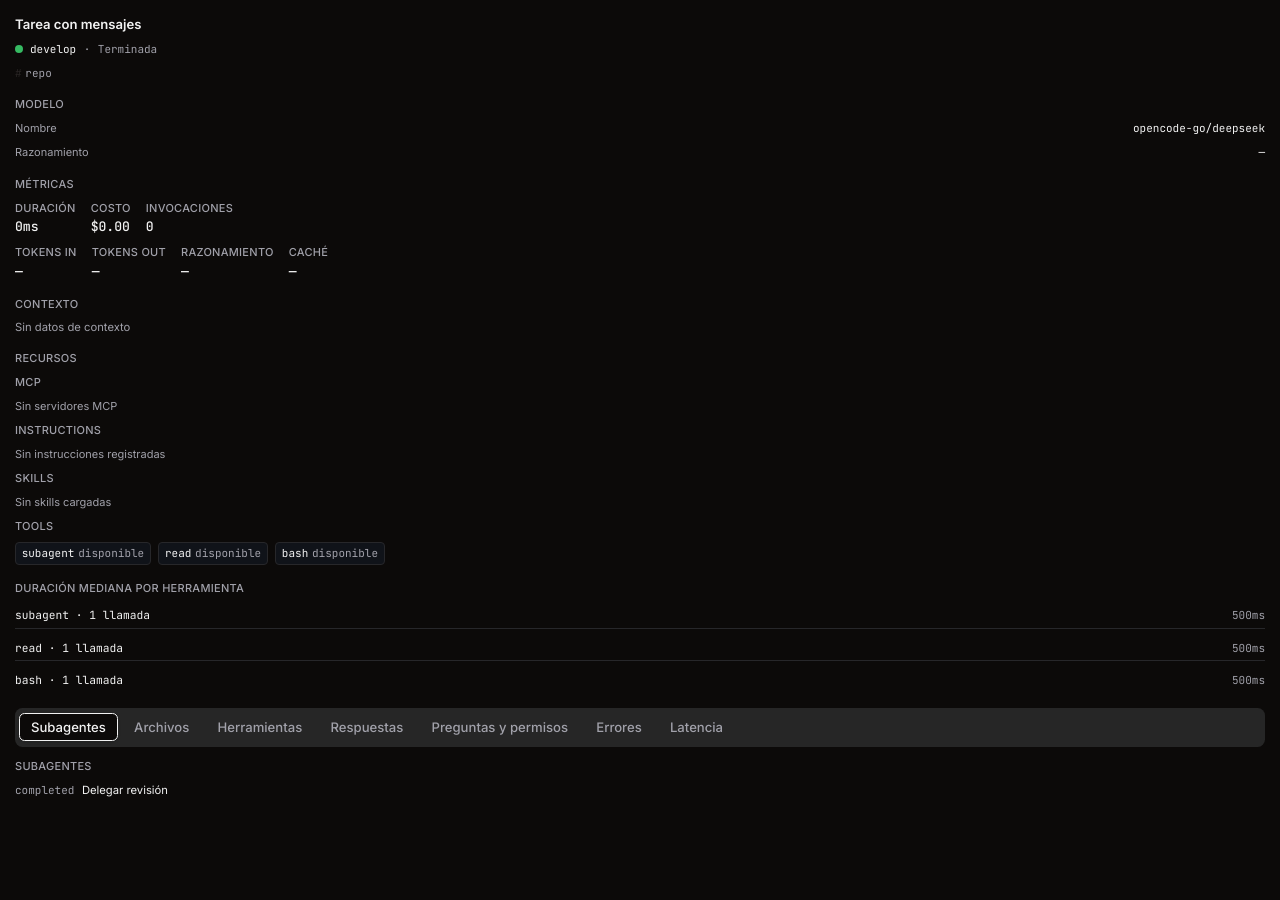
Scenario: InspectorPanel — estados de mensajes en las cuatro secciones (FR-008/SC-005) › con mensajes sembrados muestra los listados reales de las cuatro
Click the tab "Subagentes". click: [68, 727]
box: [19, 713, 118, 741]
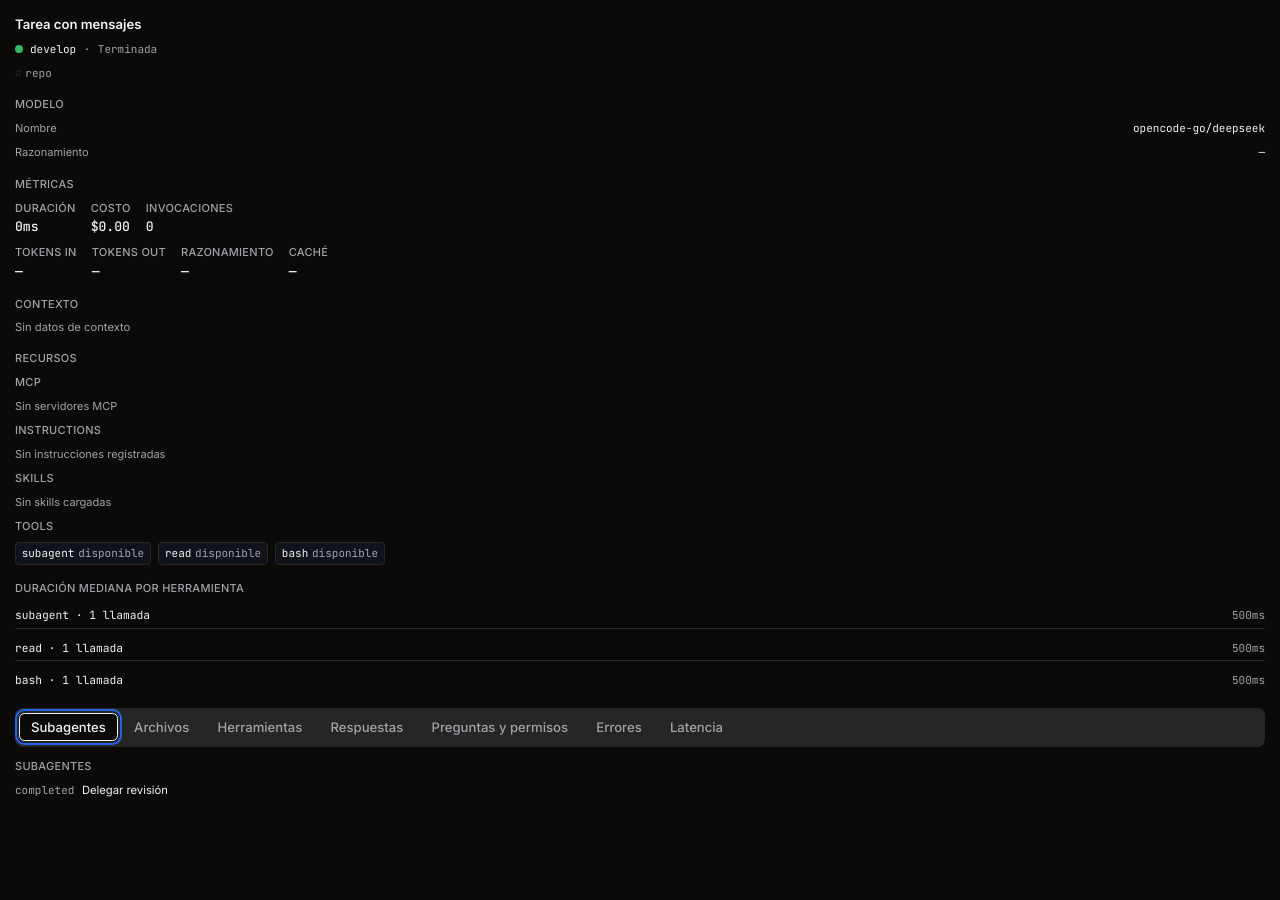
Expected: the text "Delegar revisión" is shown, [82, 782, 168, 798]
Click the tab "Herramientas". click: [260, 727]
box: [205, 713, 314, 741]
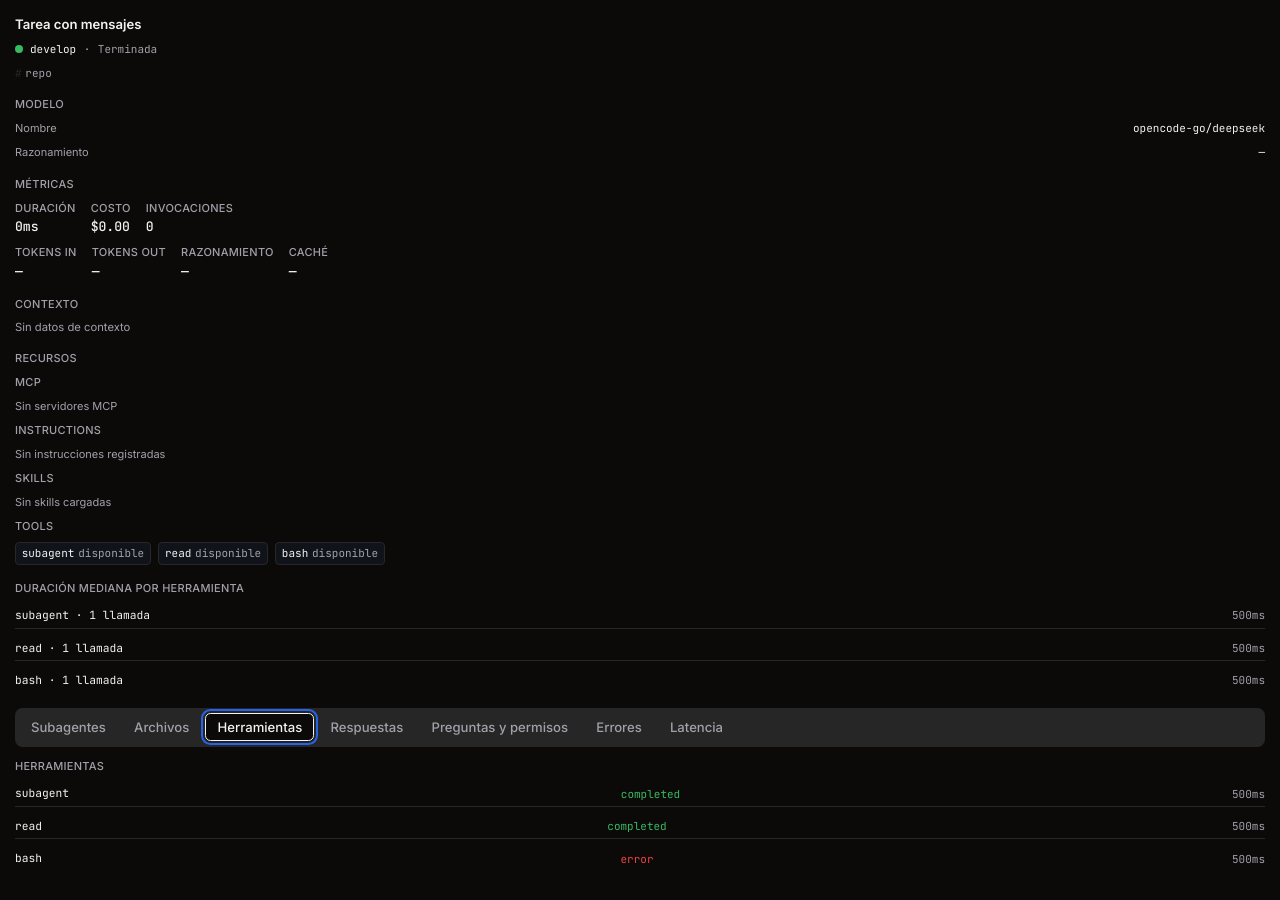
Result: the text "read" is shown at [15, 819, 42, 834]
Click the tab "Respuestas". click: [367, 727]
box: [318, 713, 416, 741]
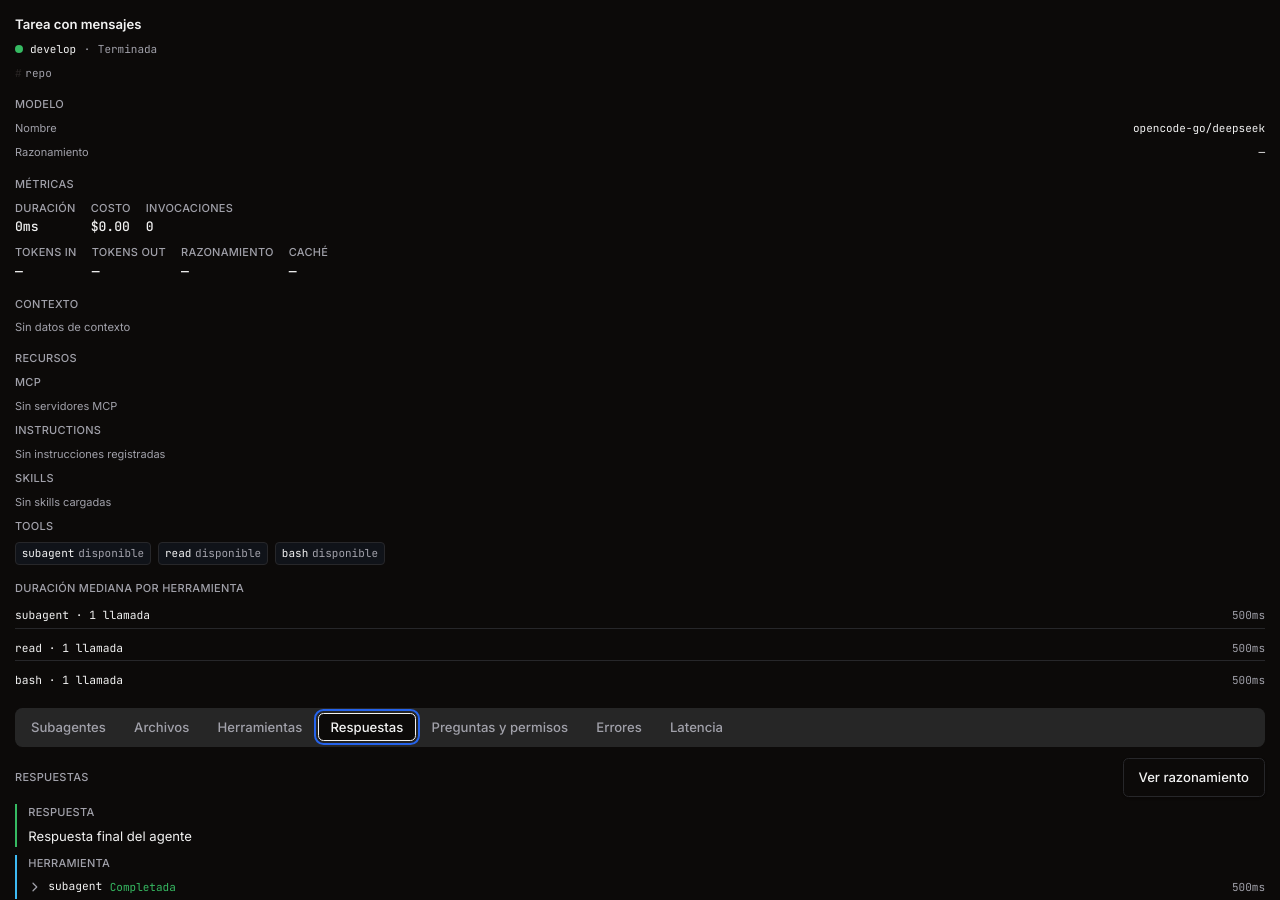
Result: the text "Respuesta final del agente" is shown at [28, 828, 192, 844]
Click the tab "Errores". click: [619, 727]
box: [584, 713, 654, 741]
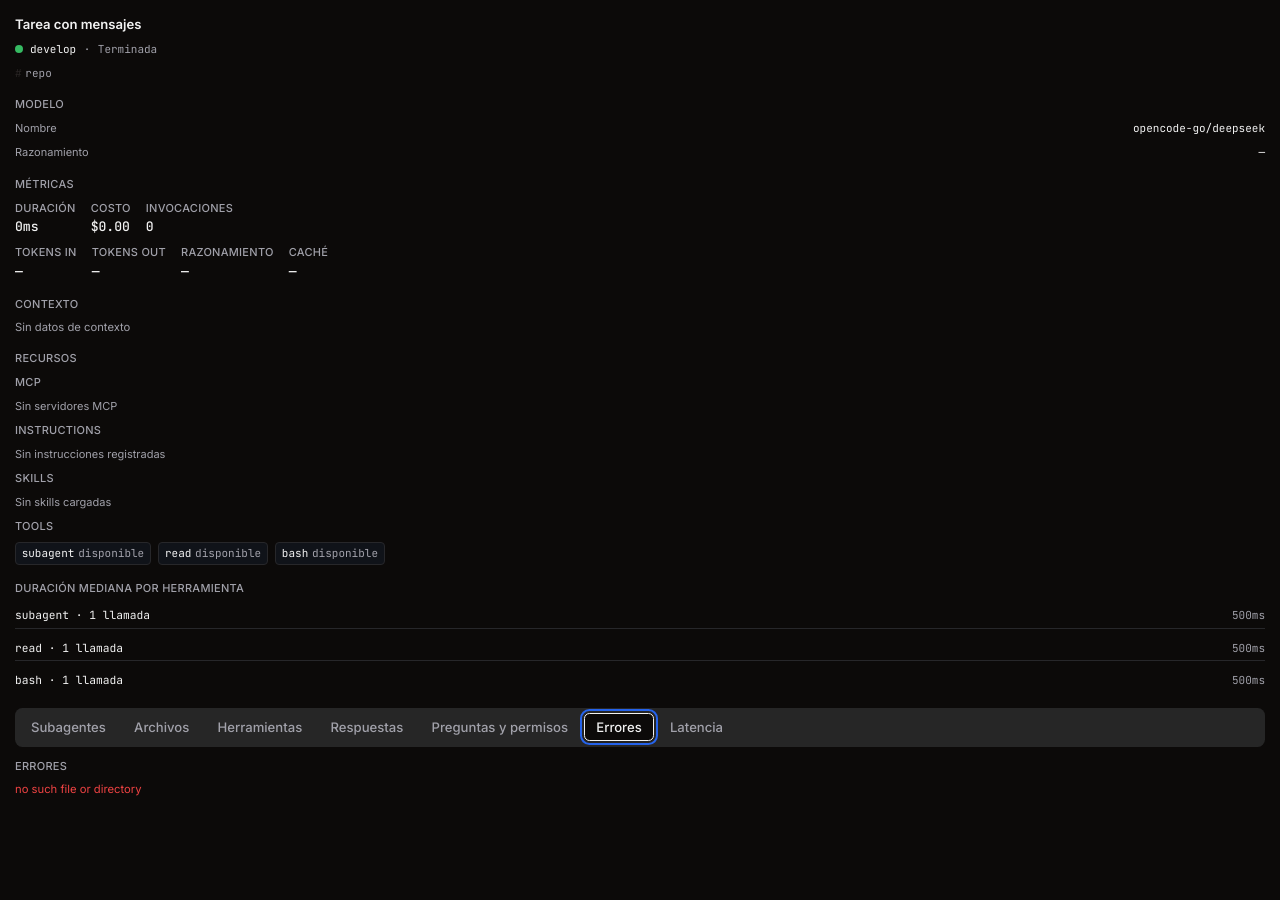
Result: the text "no such file or directory" is shown at [15, 782, 142, 796]
